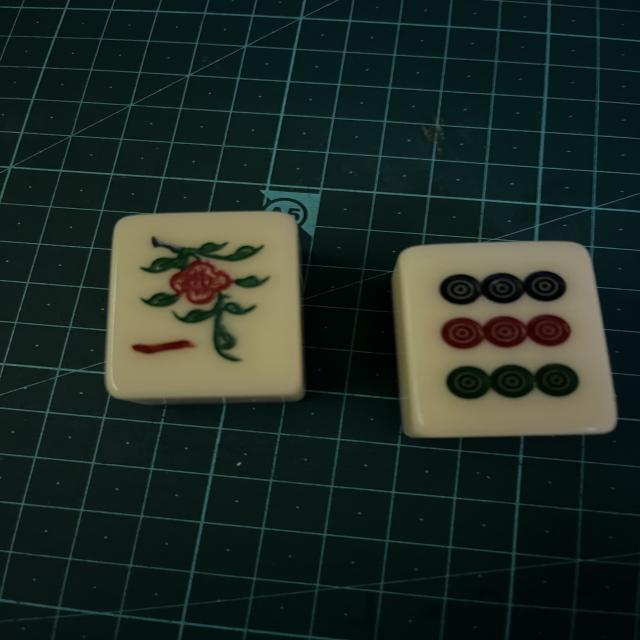ff1: (113, 216, 300, 398)
t9: (401, 242, 614, 437)
